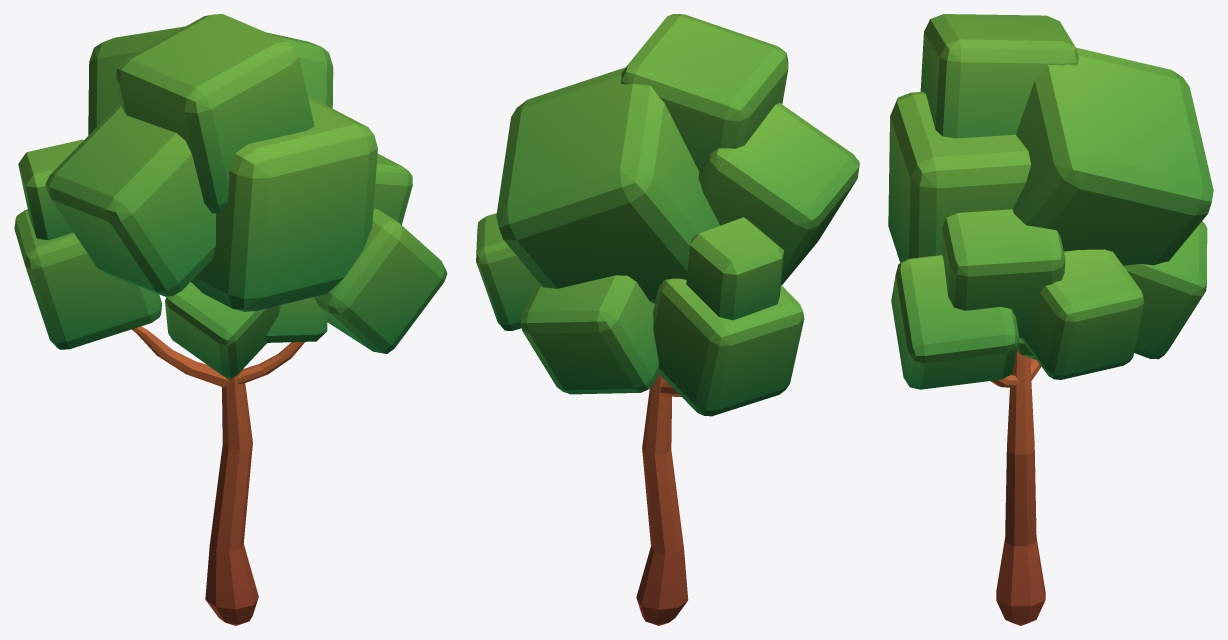
The model's file is kf_tree_2_d.fbx.
The picture shows the model from 3 angles, left to right: view 1: azimuth 30°, elevation 25°; view 2: azimuth 150°, elevation 25°; view 3: azimuth 270°, elevation 25°; orthographic projection. The views are drawn at different scales.
Parts seen in each view (by area): view 1: kf_tree_2_d_LOD0; view 2: kf_tree_2_d_LOD0; view 3: kf_tree_2_d_LOD0.
Part boxes in pixels (x1=…): kf_tree_2_d_LOD0: x1=14, y1=14, x2=447, y2=625; kf_tree_2_d_LOD0: x1=476, y1=14, x2=859, y2=625; kf_tree_2_d_LOD0: x1=888, y1=14, x2=1213, y2=625.
Size of what is drawn, in the model's own units: 5.45 by 9.3 by 4.64.
